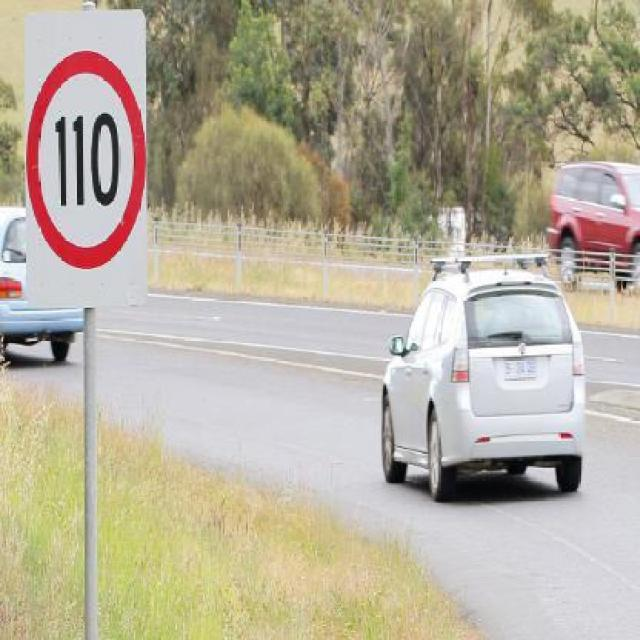speed limit 110: (24, 51, 147, 270)
